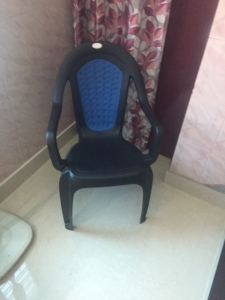chair: (46, 42, 164, 232)
